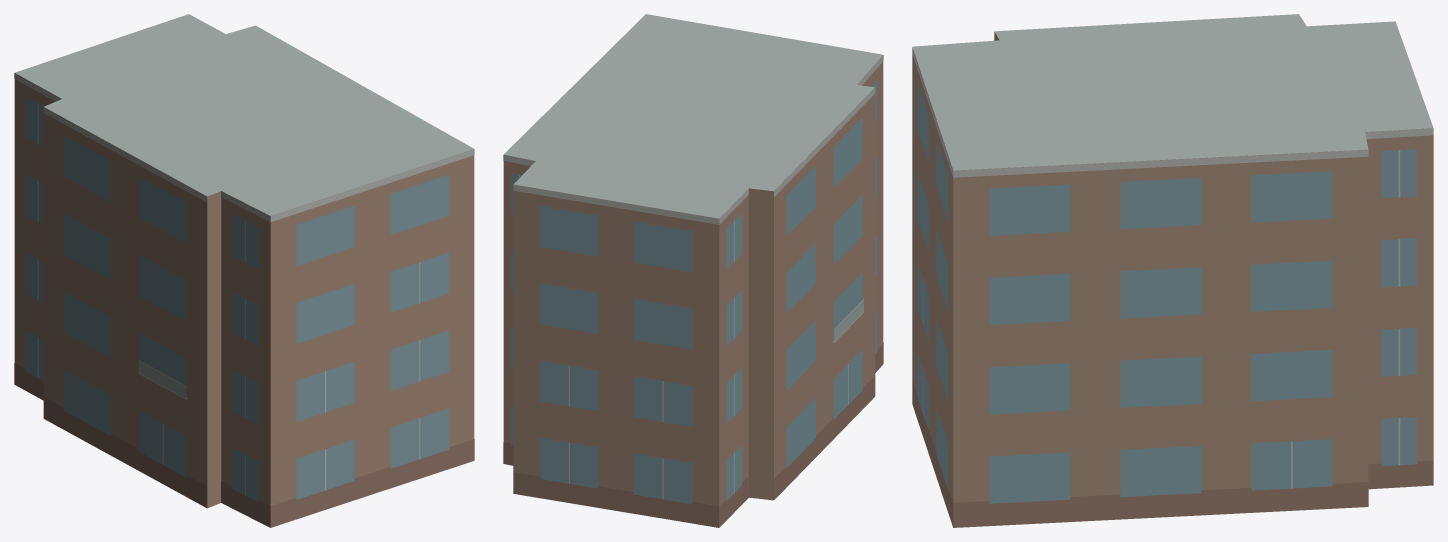
Rendered from survey-upis-32907161.glb.
3 views of the same model, side by side, from view 1: azimuth 30°, elevation 25°; view 2: azimuth 150°, elevation 25°; view 3: azimuth 270°, elevation 25° (orthographic). The views are drawn at different scales.
Parts seen in each view (by area): view 1: survey-upis-32907161.tmp; view 2: survey-upis-32907161.tmp; view 3: survey-upis-32907161.tmp.
Boxes of the visible parts, bbox=[...] form: survey-upis-32907161.tmp: bbox=[14, 14, 474, 527]; survey-upis-32907161.tmp: bbox=[503, 14, 883, 527]; survey-upis-32907161.tmp: bbox=[912, 14, 1433, 527].
Size of the model in its own units: 11.47 by 12.2 by 16.14.
